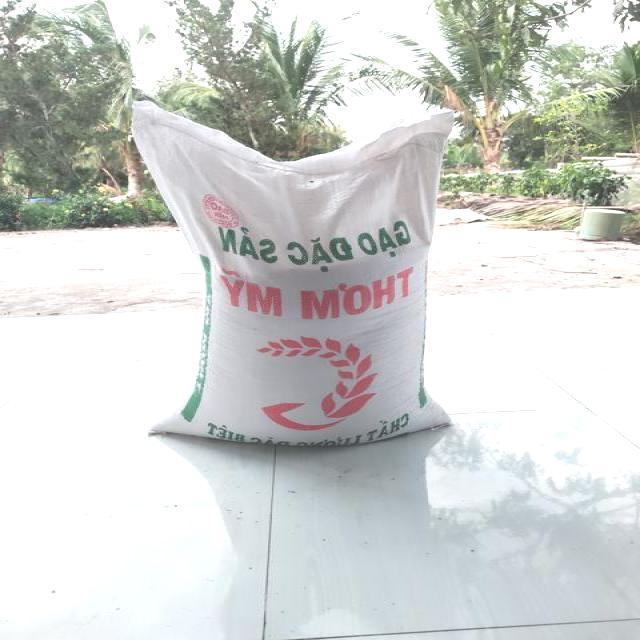gunny_bag: (133, 102, 453, 446)
